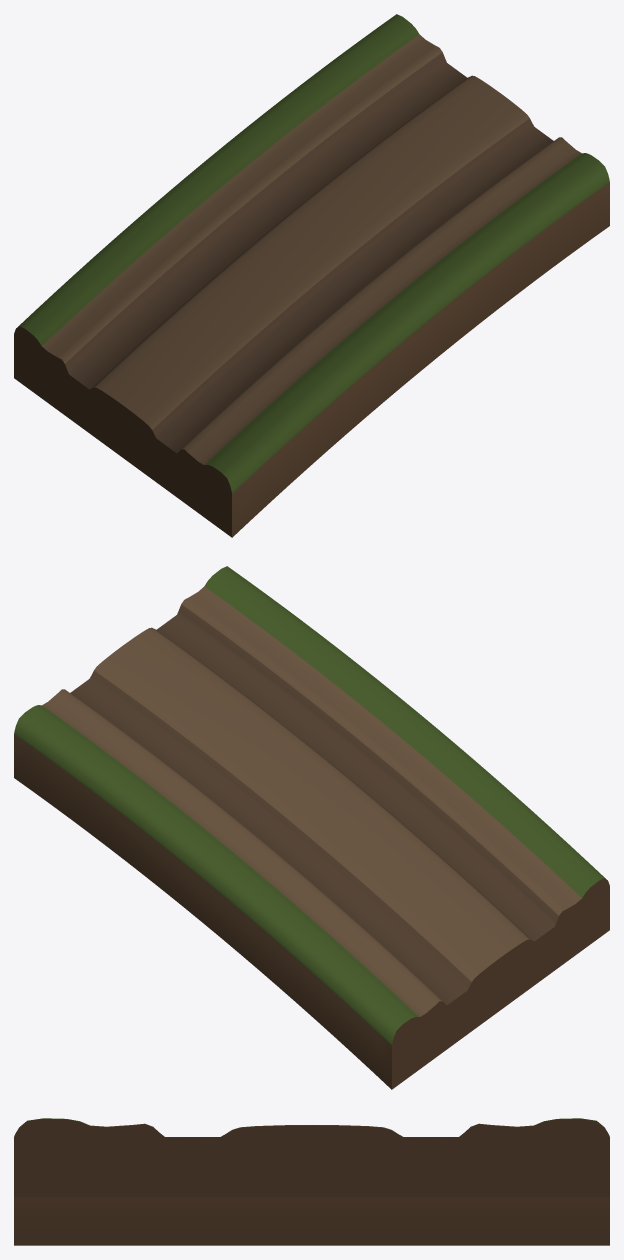
3 views of the same model, one above another, from view 1: azimuth 30°, elevation 25°; view 2: azimuth 150°, elevation 25°; view 3: azimuth 270°, elevation 25° (orthographic). The views are drawn at different scales.
Visible parts, largest first — view 1: e23o; view 2: e23o; view 3: e23o.
Part boxes in pixels (bbox=[...]): e23o: bbox=[14, 14, 609, 537]; e23o: bbox=[14, 566, 609, 1089]; e23o: bbox=[14, 1118, 609, 1245].
Bounding box in the file's own units: 9 × 6.31 × 9.
